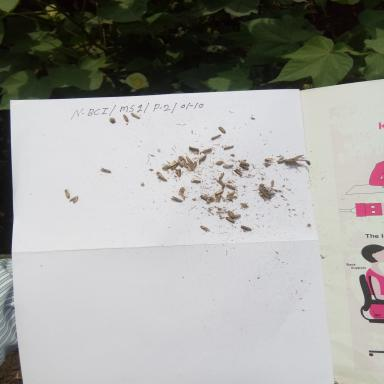pbw: (187, 158, 201, 172), (59, 188, 72, 201), (214, 193, 228, 204), (216, 124, 230, 135), (240, 224, 256, 233), (276, 154, 290, 164), (221, 144, 237, 152), (169, 196, 185, 204), (198, 193, 212, 202), (154, 174, 168, 183), (128, 112, 142, 121), (186, 145, 201, 153), (214, 179, 227, 188), (69, 194, 81, 203), (199, 224, 211, 233), (166, 159, 178, 168), (227, 209, 237, 219), (198, 153, 208, 163), (224, 216, 236, 224), (232, 168, 244, 176), (225, 183, 238, 190), (98, 167, 113, 173), (199, 147, 214, 153), (209, 134, 223, 140), (220, 163, 234, 169), (121, 114, 130, 123), (174, 168, 182, 178), (178, 186, 186, 196), (176, 158, 184, 168), (238, 160, 250, 166), (238, 164, 250, 170), (182, 158, 188, 170), (186, 156, 195, 164), (206, 197, 215, 205), (263, 156, 275, 162), (213, 189, 224, 195), (226, 191, 237, 197), (218, 171, 225, 180), (190, 179, 202, 184), (269, 180, 276, 188), (225, 196, 236, 201), (230, 214, 242, 218), (171, 163, 179, 169)
